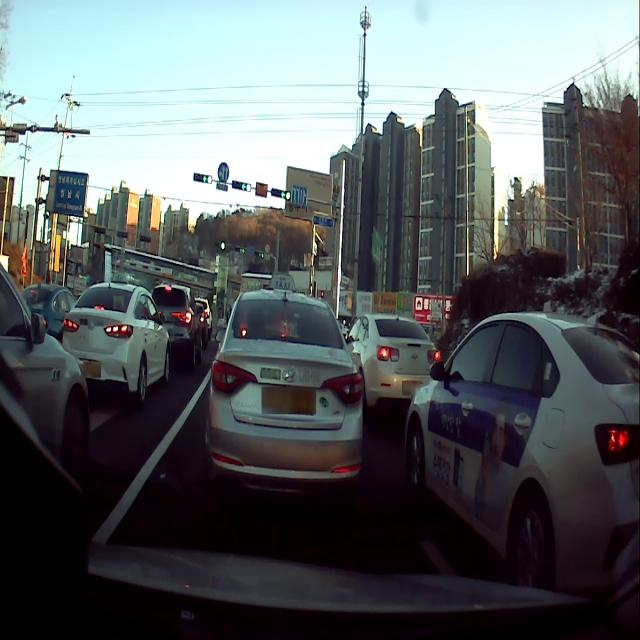Green Light: (246, 183, 251, 192), (207, 176, 212, 184), (286, 192, 290, 199)
